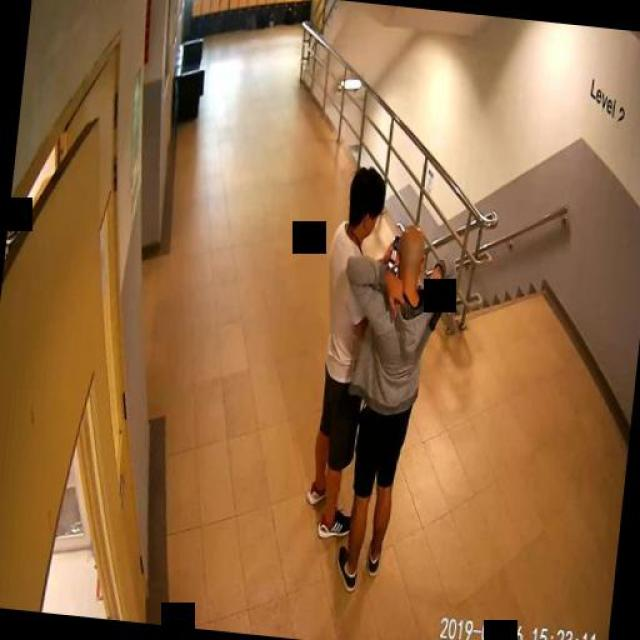gun: (425, 280, 449, 330)
